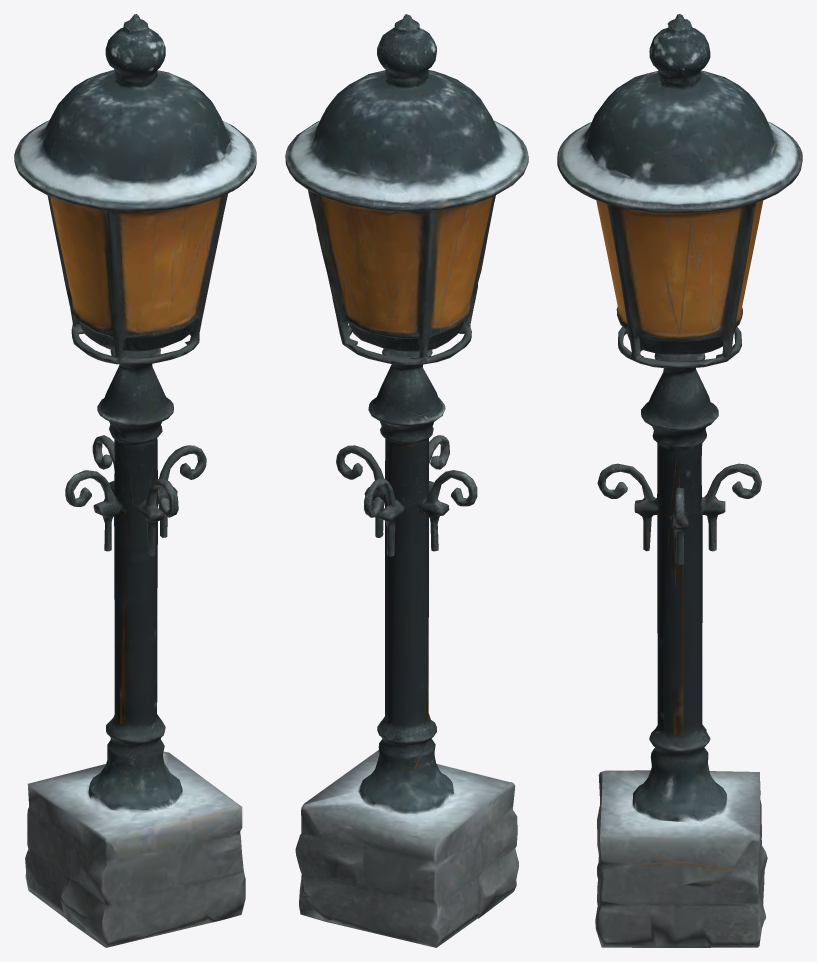
The model's file is lamp.glb.
3 renders of one model, left to right at view 1: azimuth 30°, elevation 25°; view 2: azimuth 150°, elevation 25°; view 3: azimuth 270°, elevation 25°, orthographic.
Bounding box in the file's own units: 0.4674 × 1.9 × 0.4686.
1 material, 1 textured.
